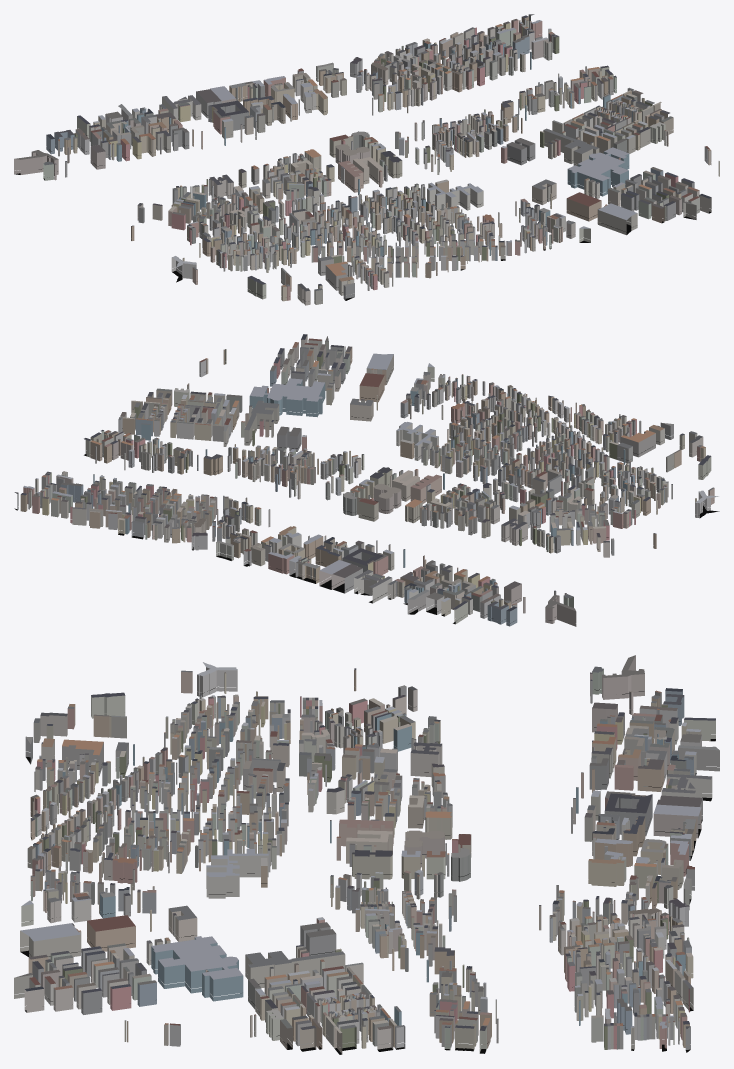
File: PartialBuildingsSmall.fbx
The picture shows the model from 3 angles, top to bottom: view 1: azimuth 30°, elevation 25°; view 2: azimuth 150°, elevation 25°; view 3: azimuth 270°, elevation 25°; orthographic projection. The views are drawn at different scales.
Parts seen in each view (by area): view 1: group9; view 2: group9; view 3: group9.
Part boxes in pixels (x1,y1,x2,y2): group9: (14, 14, 719, 305); group9: (14, 334, 719, 626); group9: (14, 655, 719, 1054).
Bounding box in the file's own units: 1821 × 58.05 × 1436.
